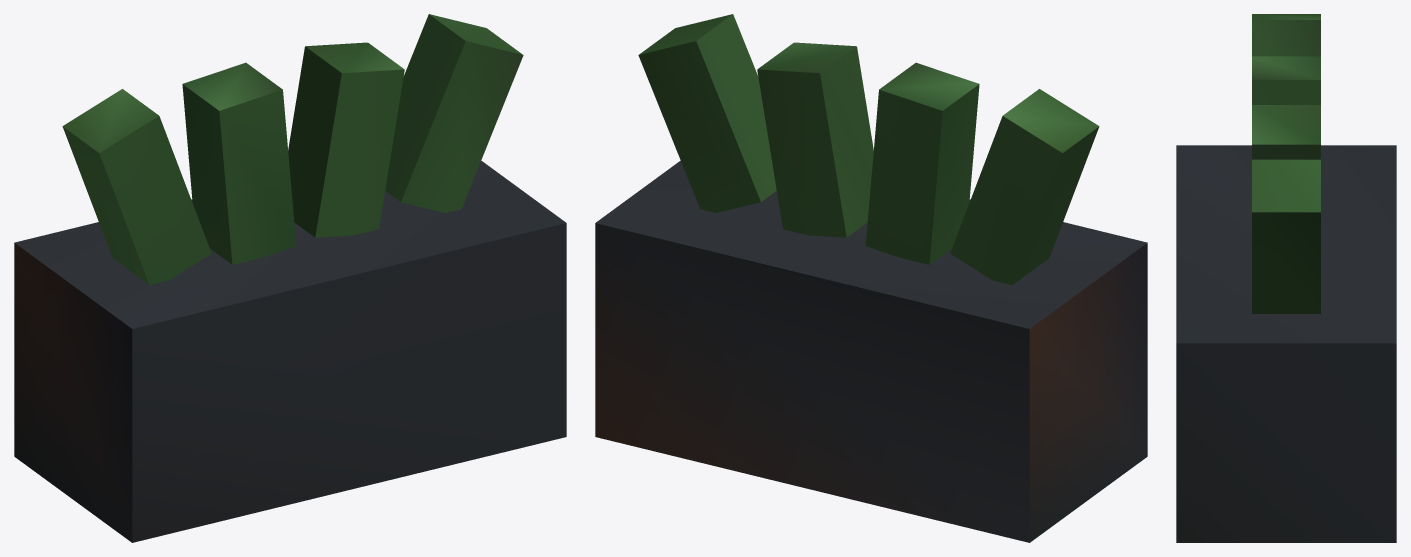
Rendered from planter.glb.
The picture shows the model from 3 angles, left to right: view 1: azimuth 30°, elevation 25°; view 2: azimuth 150°, elevation 25°; view 3: azimuth 270°, elevation 25°; orthographic projection. The views are drawn at different scales.
Parts seen in each view (by area): view 1: planter; view 2: planter; view 3: planter.
Part boxes in pixels (x1,y1,x2,y2): planter: [14, 14, 566, 542]; planter: [595, 14, 1147, 542]; planter: [1176, 14, 1396, 542].
Size of the model in its own units: 34 by 28.49 by 16.
